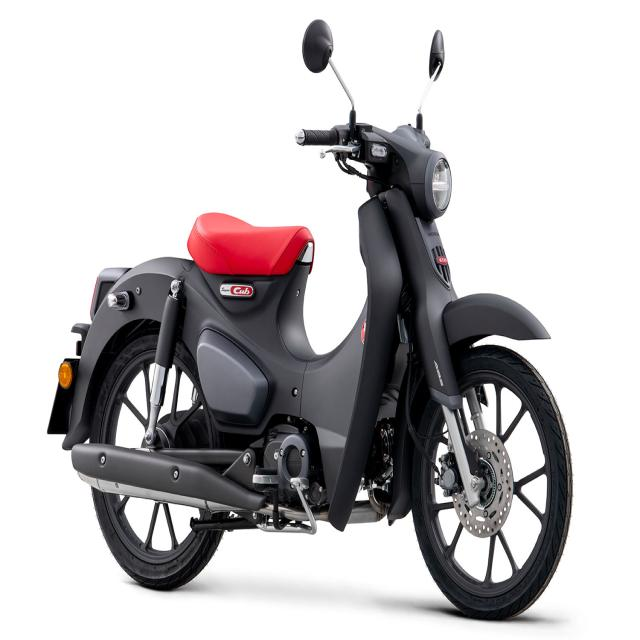Motorcycle: (48, 106, 573, 620)
